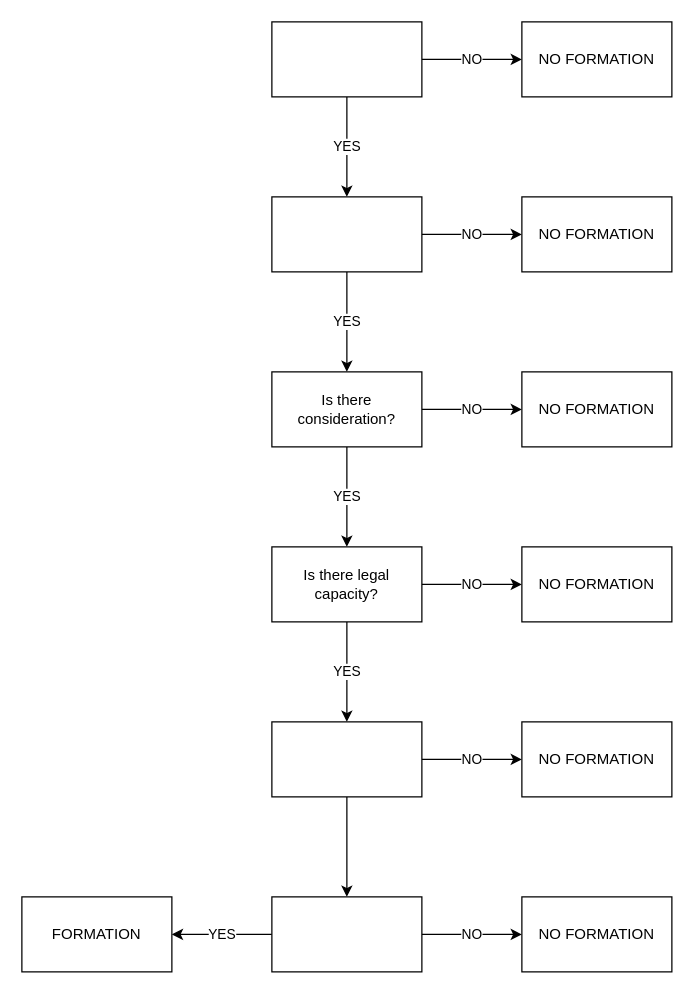
This 694x994 diagram has some shape labels left out. Here are the shapes that lost their labels. From the top down, the centre of each, then its label:
point (346, 59): Is there offer and acceptance?
point (346, 234): Is there an intention to create legal relations?
point (346, 759): Is there consent?
point (346, 934): Is there legality?
